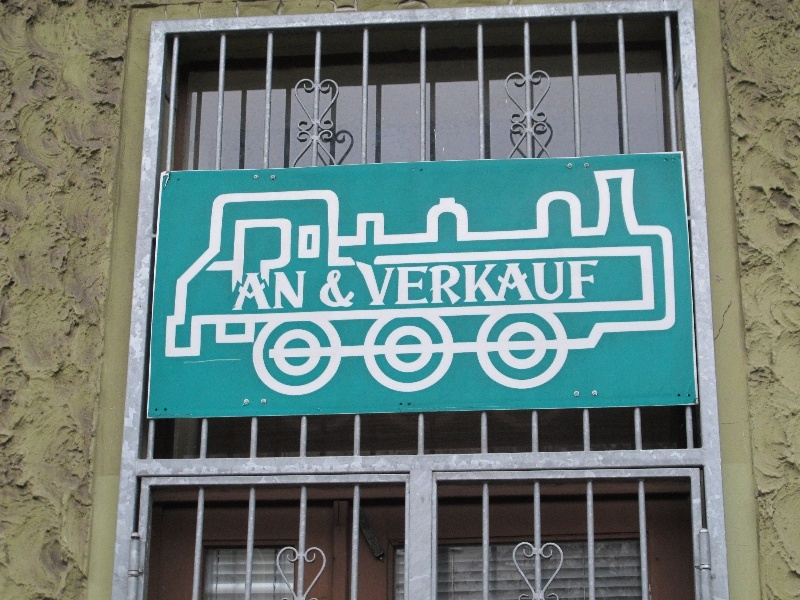text: (369, 261, 384, 306), (385, 261, 400, 306), (401, 261, 416, 306), (417, 261, 432, 306), (433, 261, 448, 306), (449, 261, 464, 306), (465, 261, 480, 306), (481, 261, 496, 306), (497, 261, 512, 306), (513, 261, 528, 306), (529, 261, 544, 306), (545, 261, 560, 306), (561, 261, 576, 306), (577, 261, 592, 306), (241, 271, 256, 311), (257, 271, 272, 311), (273, 271, 288, 311), (289, 271, 304, 311), (321, 270, 336, 308), (337, 270, 352, 308), (356, 261, 368, 306), (593, 261, 598, 306), (305, 271, 307, 311), (353, 270, 355, 308)
